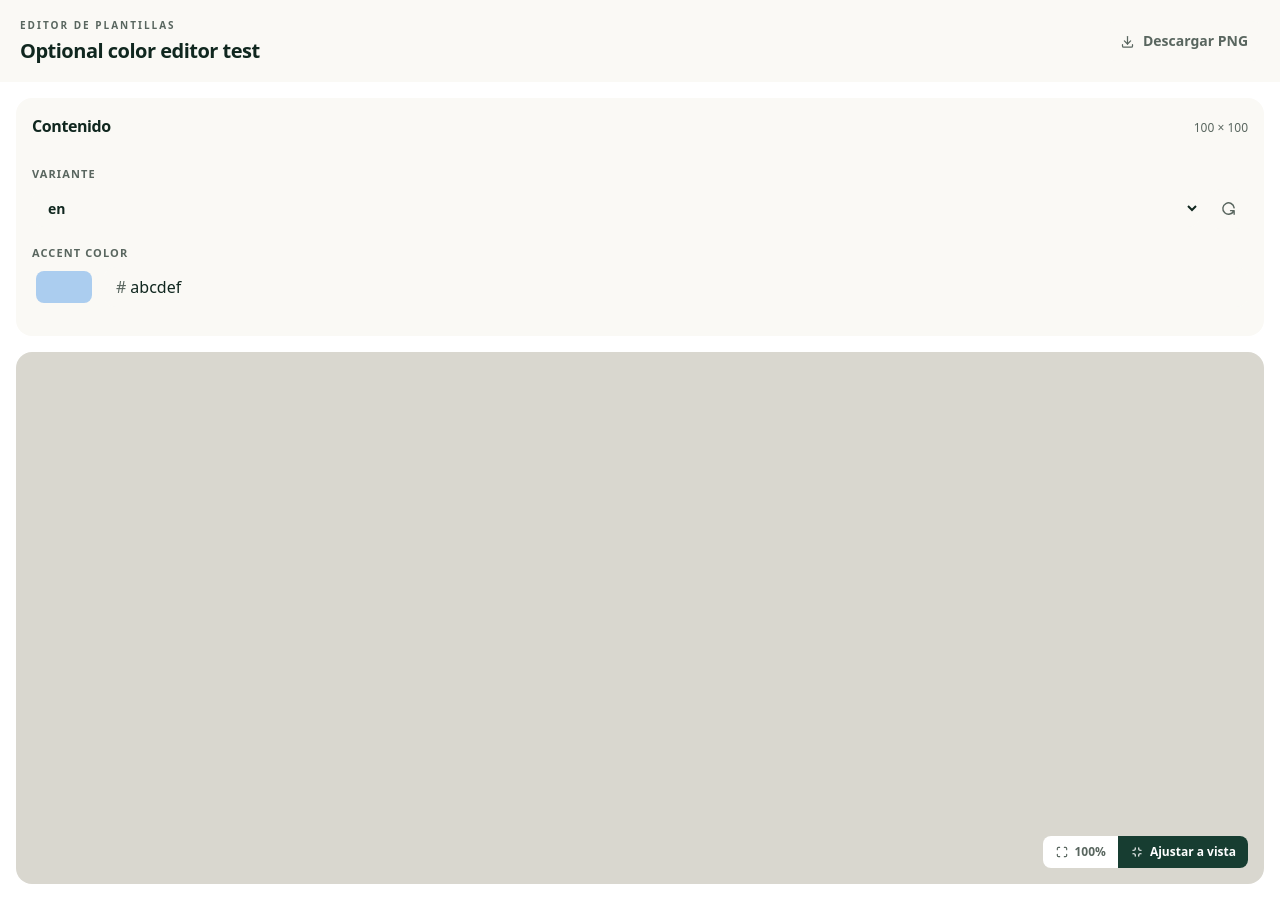
Scenario: FrameKitEditor export › does not pass a bare hash when clearing an optional color
Clear the field named "Accent color": x=683, y=287 [130,275,1236,299]
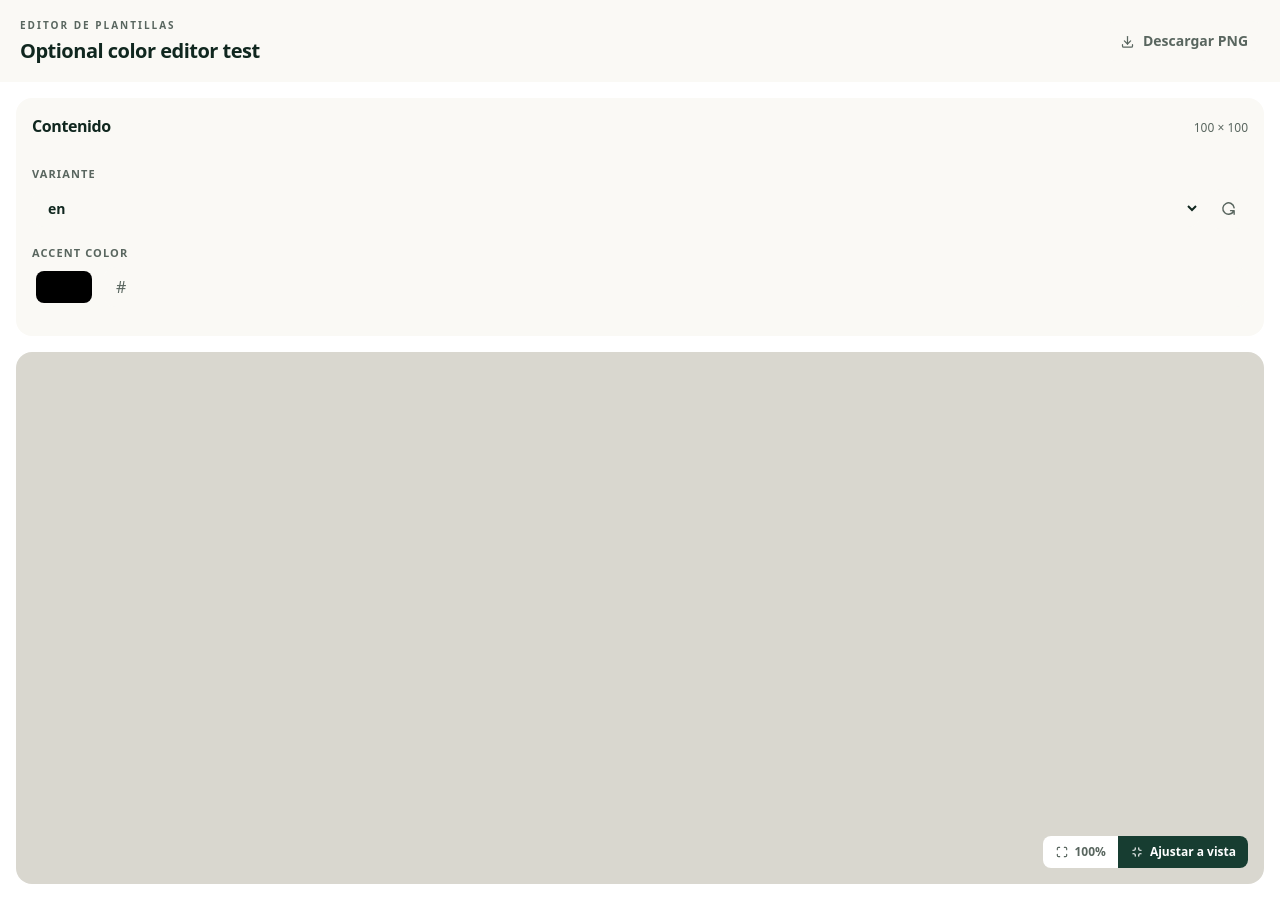
Click the button "Descargar PNG": x=1184, y=41 [1104,21,1264,61]
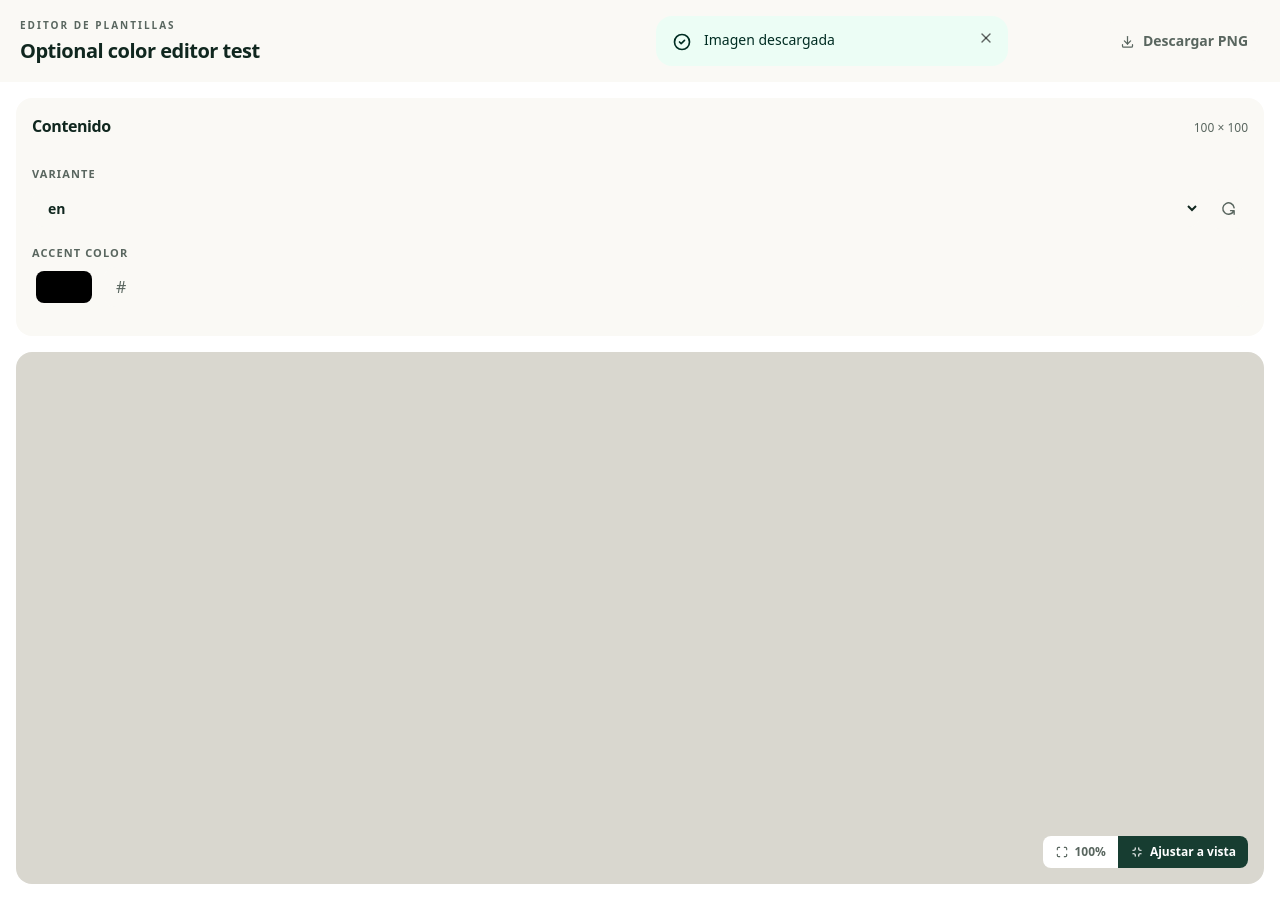
Expected: the text "Imagen descargada" is shown, [704,30,835,50]
